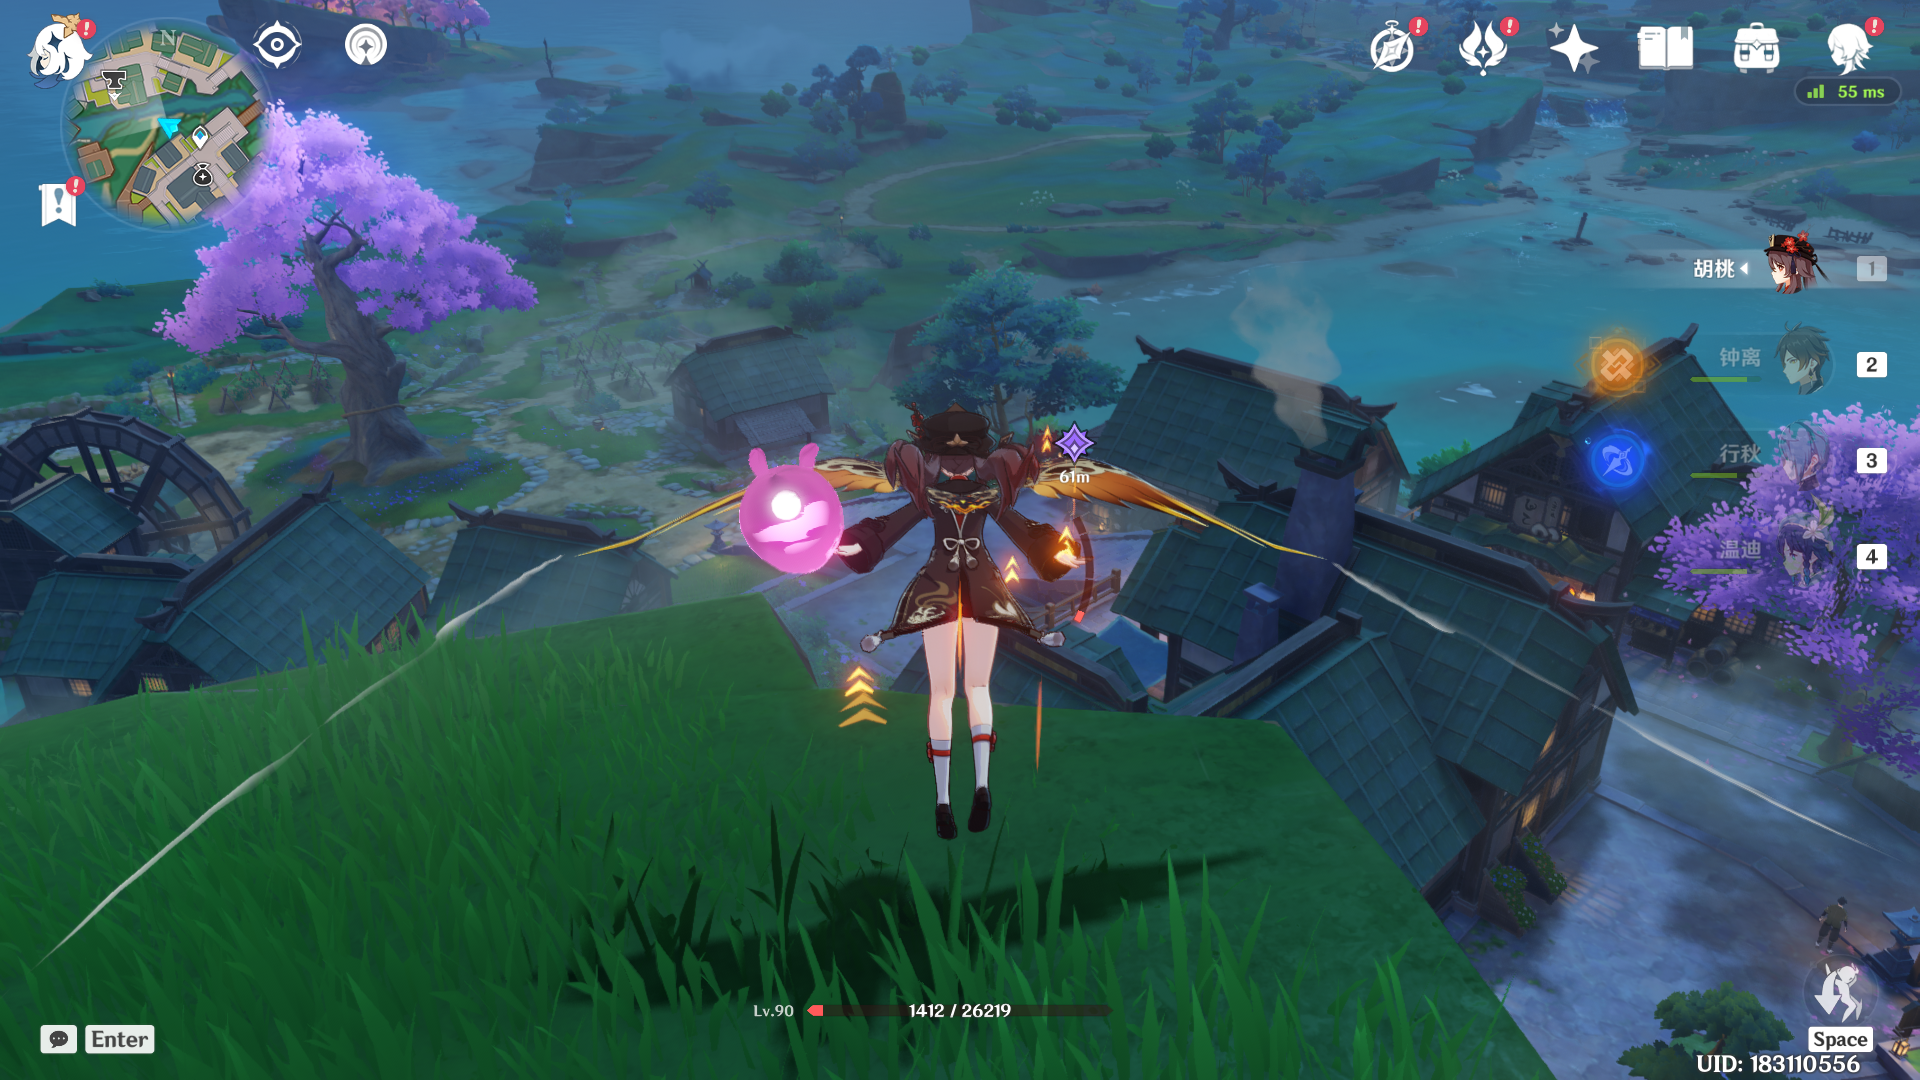character: (804, 385, 1116, 847)
